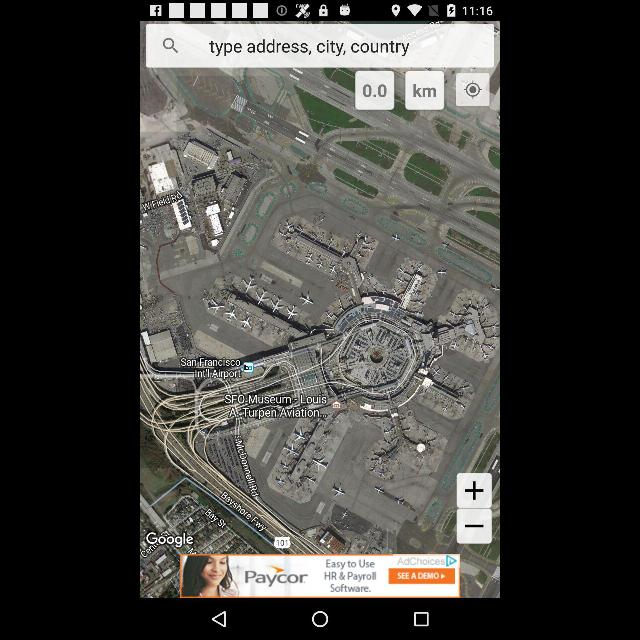icon: (464, 81, 482, 99), (312, 610, 328, 628), (212, 610, 226, 628), (162, 38, 178, 52), (414, 612, 428, 626)
input: (147, 26, 493, 66)
map: (140, 69, 500, 596)
panel: (140, 598, 500, 640)
text: (209, 39, 409, 55)
uppertaskbar: (140, 0, 500, 20)
